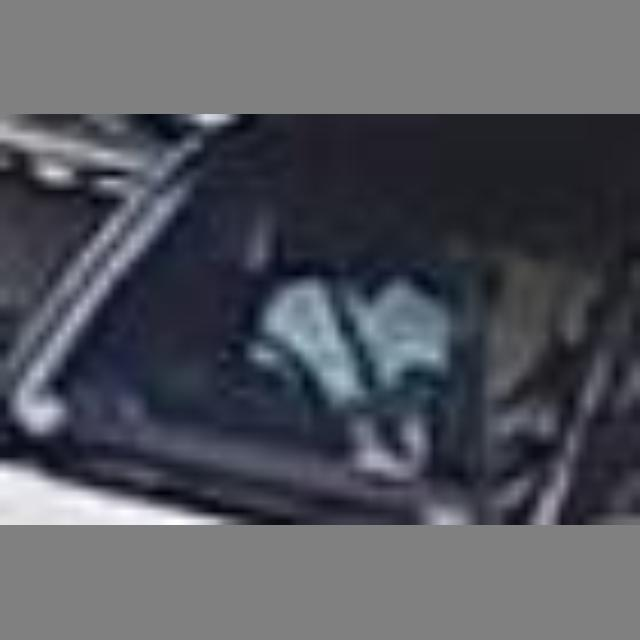pakai: (192, 242, 457, 452)
